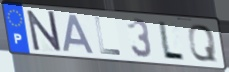3: (126, 17, 153, 60)
A: (62, 13, 97, 55)
L: (93, 15, 123, 57), (157, 20, 186, 62)
N: (25, 9, 64, 53)
Q: (187, 23, 219, 63)
